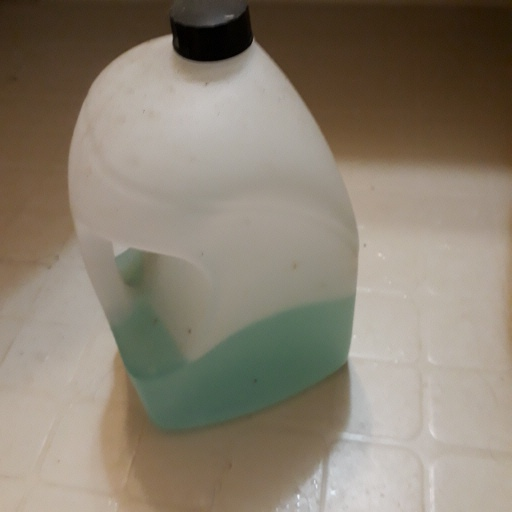Plastic_1: (63, 1, 359, 420)
